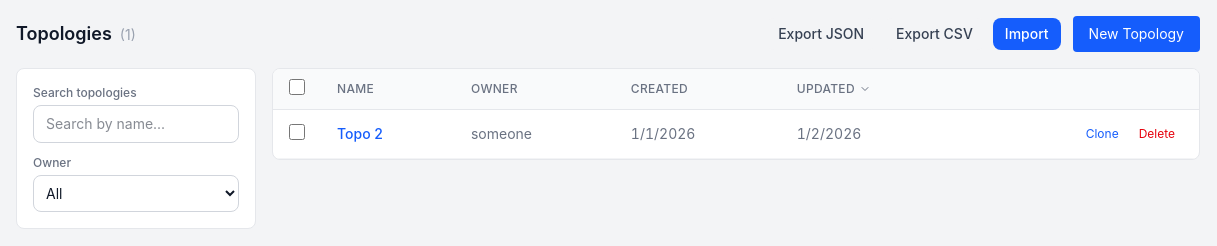
Test: delete gate and bulk delete (issue #958) › a admin may delete another user's topology
Expected: the text "Topo 2" is shown, [321,110,455,158]
Expected: the button with aria-label "Delete topology Topo 2" is shown, [1131,122,1183,146]
Click the checkbox named "Select topology Topo 2" at point(297, 132), box [289,124,305,140]
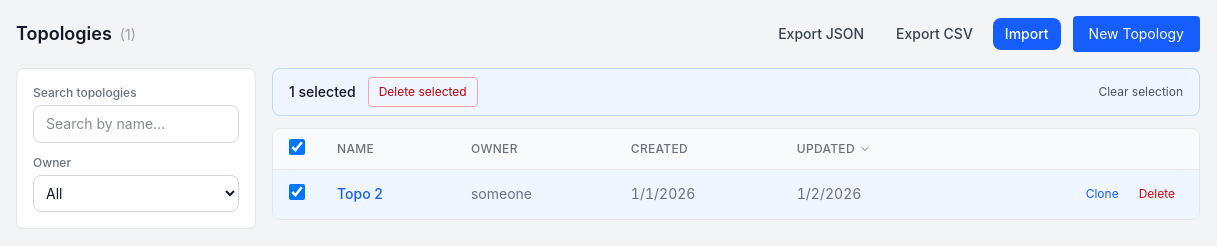
Now the button "Delete selected" is enabled, box [368,77,478,107]
